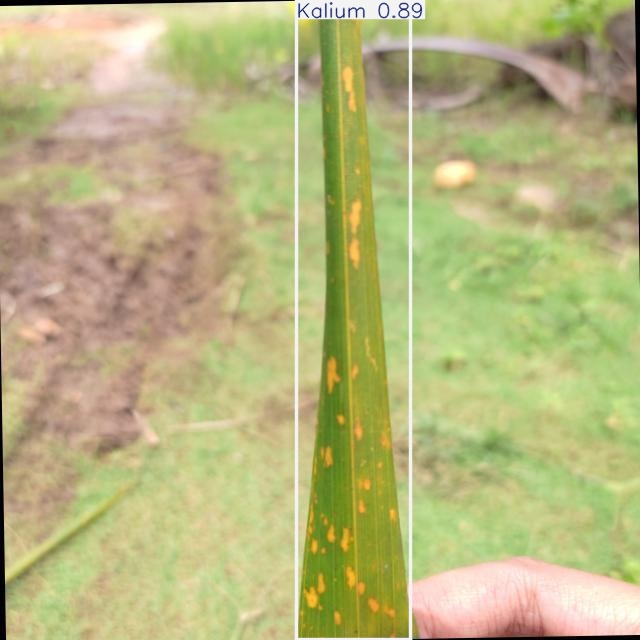Kalium: (297, 0, 411, 640)
